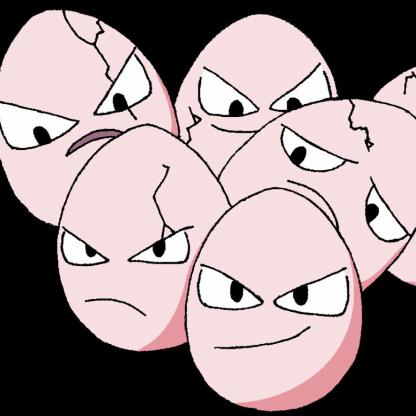Exeggcute: (1, 7, 416, 414)
